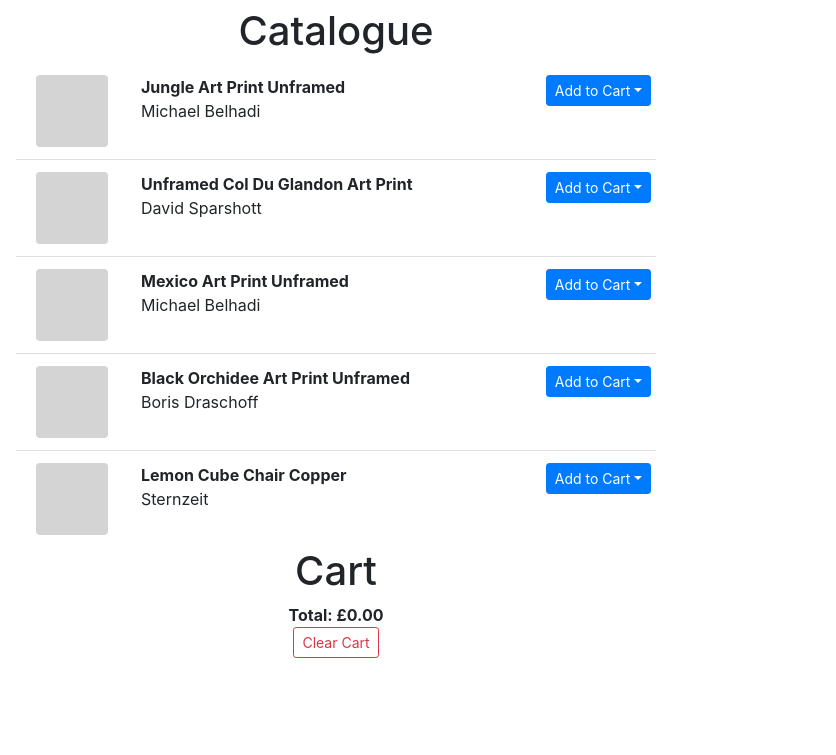
it: e2e tests - as a user › when I add an item variant to the cart › I see that item variant in the cart with details and Add/Remove buttons
Click the button "Add to Cart" in the row of "Jungle Art Print Unframed". click: (598, 90)
box: [546, 75, 651, 106]
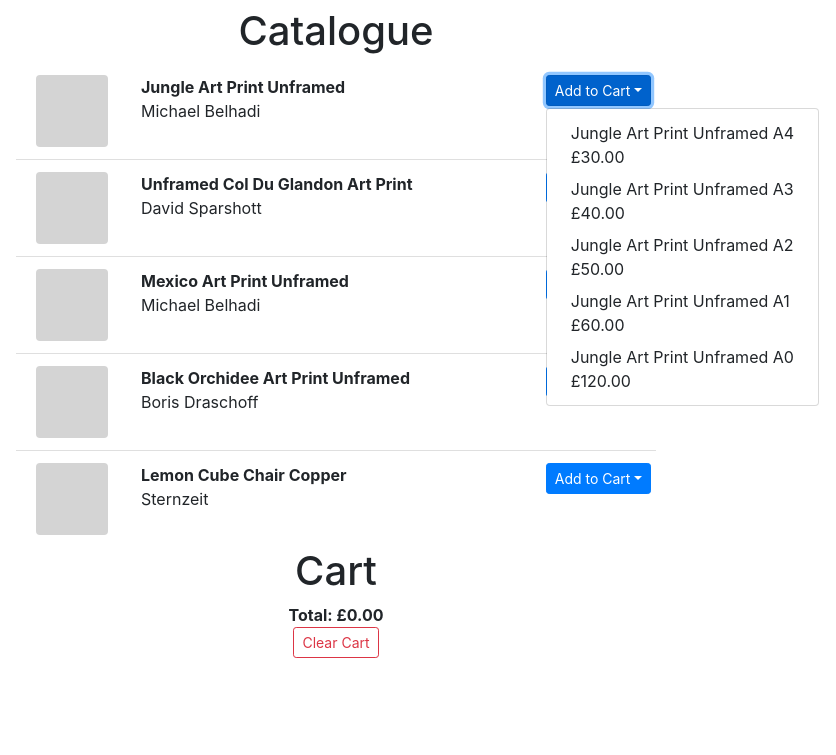
Click the text "Jungle Art Print Unframed A4". click: (682, 133)
box: [571, 121, 794, 145]
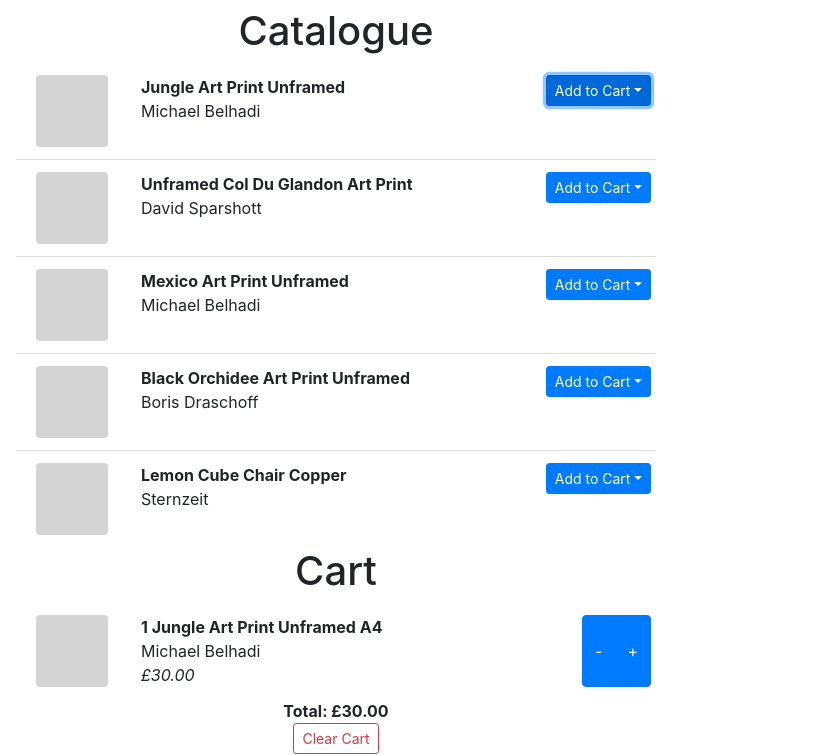
Check: the text "Michael Belhadi" below "1 Jungle Art Print Unframed A4" is shown, box [141, 641, 260, 661]
Check: the text "£30.00" is shown, box [141, 665, 195, 685]
Check: the button "-" is shown, box [582, 615, 615, 687]
